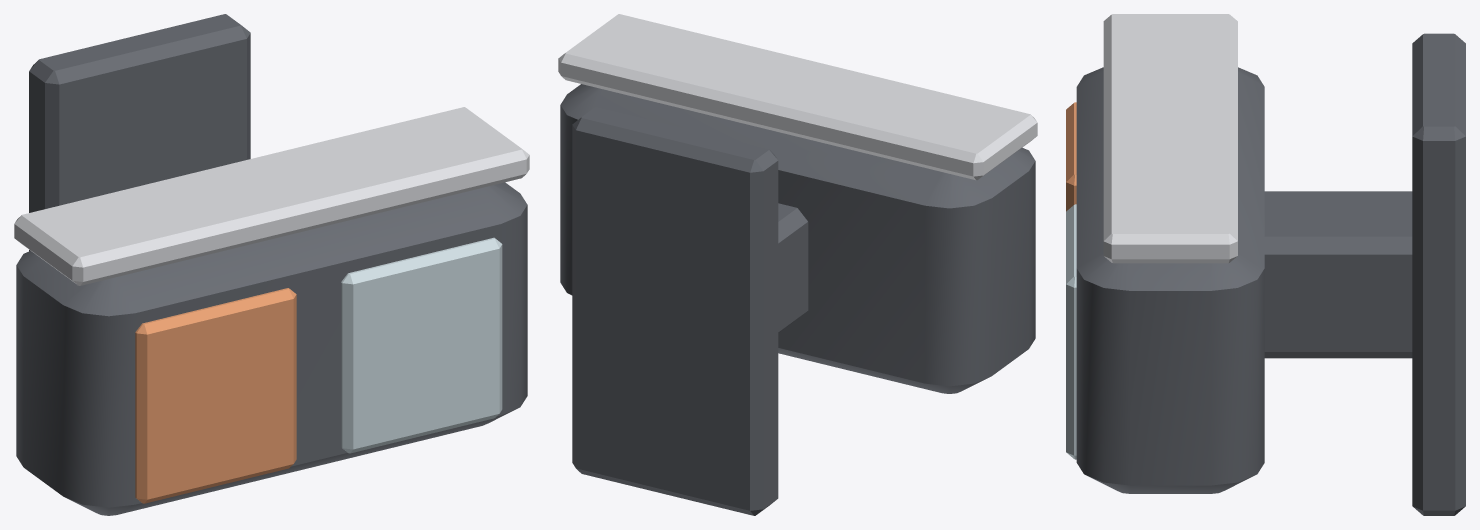
Rendered from downtown-office-interiors-room-status-light-ac249467__17059.glb.
3 renders of one model, left to right at view 1: azimuth 30°, elevation 25°; view 2: azimuth 150°, elevation 25°; view 3: azimuth 270°, elevation 25°, orthographic. The views are drawn at different scales.
Parts seen in each view (by area): view 1: room-status-light; view 2: room-status-light; view 3: room-status-light.
Boxes of the visible parts, left/top/right/bottom form: room-status-light: left=14, top=14, right=529, bottom=515; room-status-light: left=558, top=14, right=1037, bottom=515; room-status-light: left=1066, top=14, right=1465, bottom=515.
Bounding box in the file's own units: 0.2 × 0.16 × 0.149.
